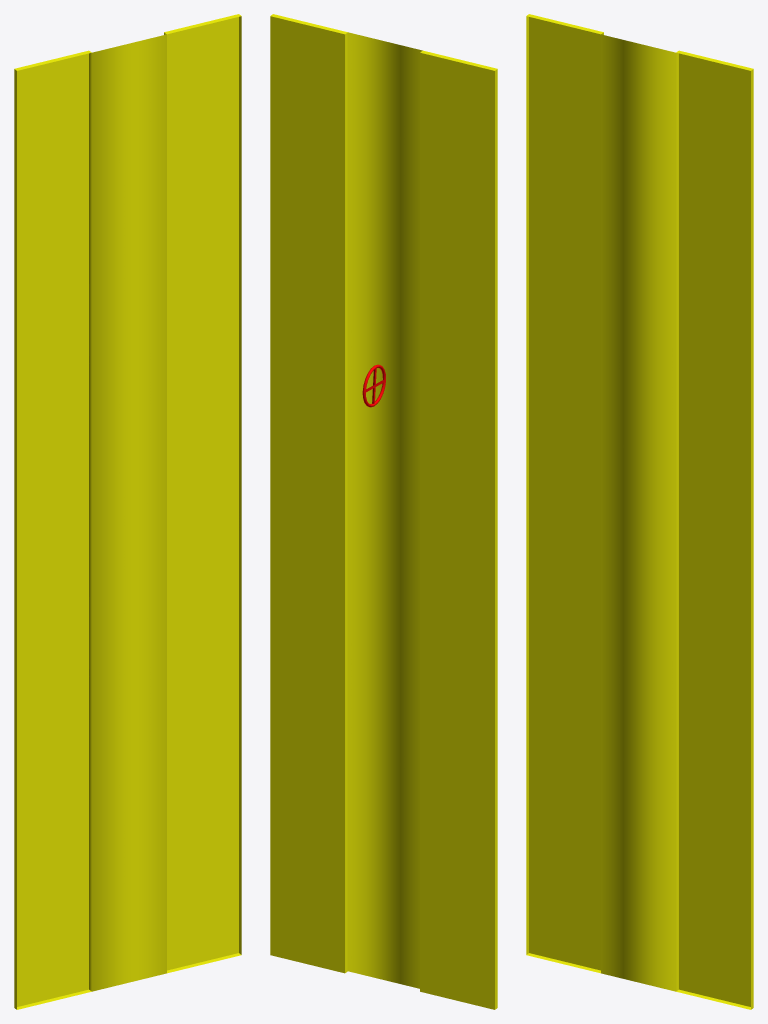
Rendered from simple_024_DrivenKey_00.dae.
3 renders of one model, left to right at view 1: azimuth 30°, elevation 25°; view 2: azimuth 150°, elevation 25°; view 3: azimuth 330°, elevation 25°, orthographic.
Visible parts, largest first — view 1: pPlane1; view 2: pPlane1, wheel; view 3: pPlane1.
Part boxes in pixels (bbox=[...]): pPlane1: bbox=[14, 14, 241, 1009]; pPlane1: bbox=[270, 14, 497, 1009]; wheel: bbox=[362, 364, 385, 407]; pPlane1: bbox=[526, 14, 753, 1009].
Size of the model in its own units: 12.78 by 2.16 by 51.03.
